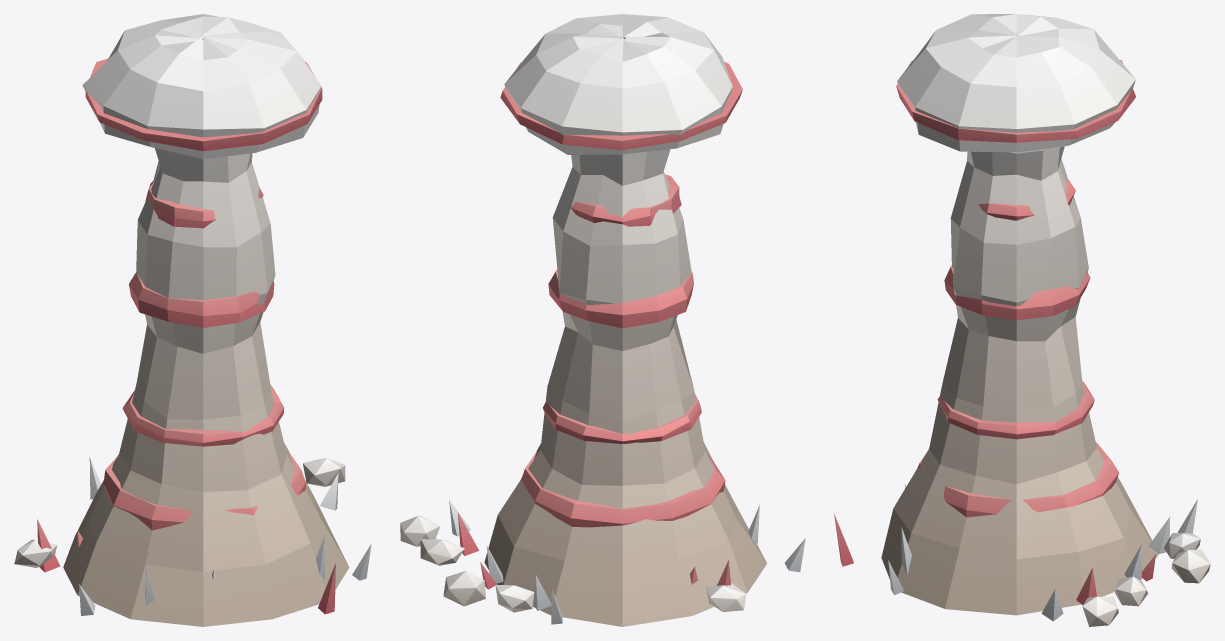
Rendered from salt_pillar.glb.
The picture shows the model from 3 angles, left to right: view 1: azimuth 30°, elevation 25°; view 2: azimuth 150°, elevation 25°; view 3: azimuth 270°, elevation 25°; orthographic projection.
Parts seen in each view (by area): view 1: salt_pillar; view 2: salt_pillar; view 3: salt_pillar.
Part boxes in pixels (x1,y1,x2,y2): salt_pillar: (14,14,371,626); salt_pillar: (400,14,805,626); salt_pillar: (834,14,1210,626).
Bounding box in the file's own units: 4.38 × 6.63 × 4.3.
1 material, 1 textured.
